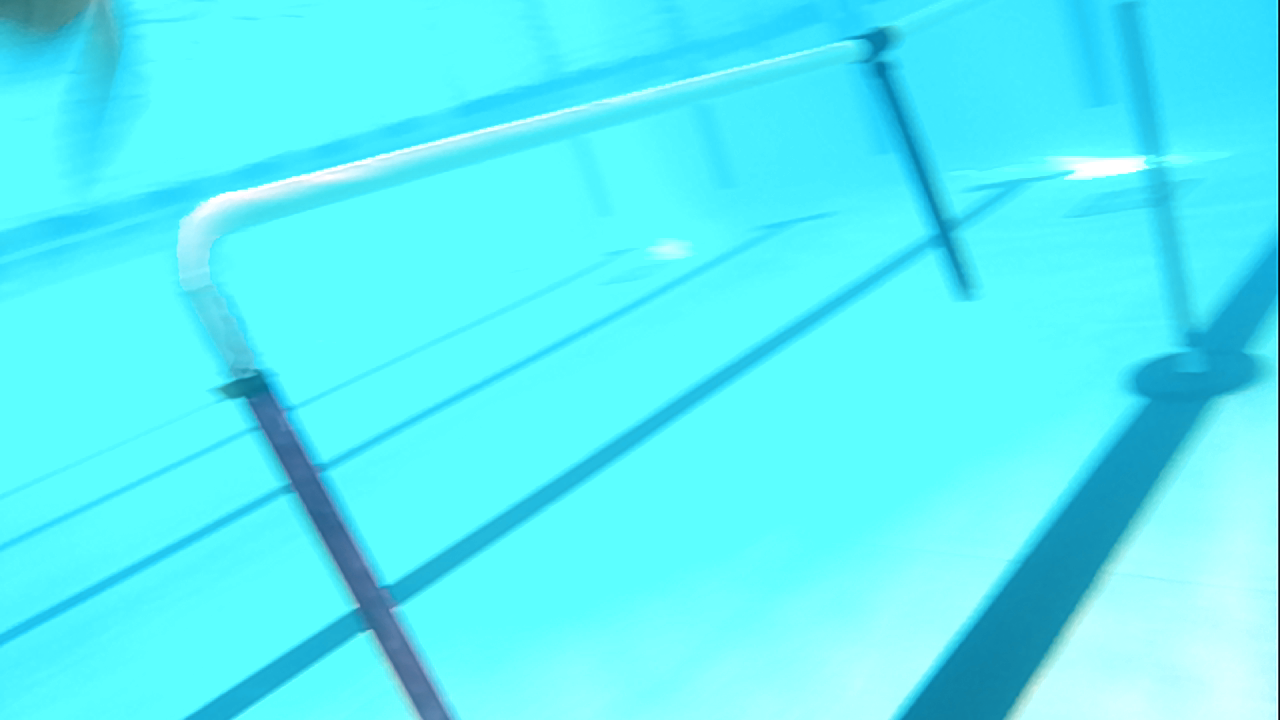gate_leg_center: (846, 22, 978, 302)
gate_leg_r: (1110, 1, 1205, 367)
